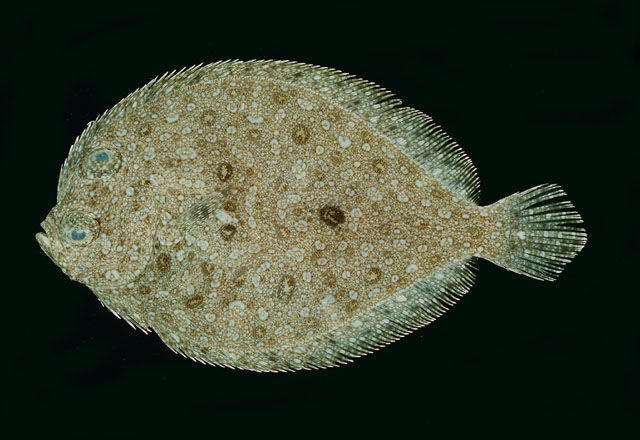fish: (37, 61, 591, 371)
